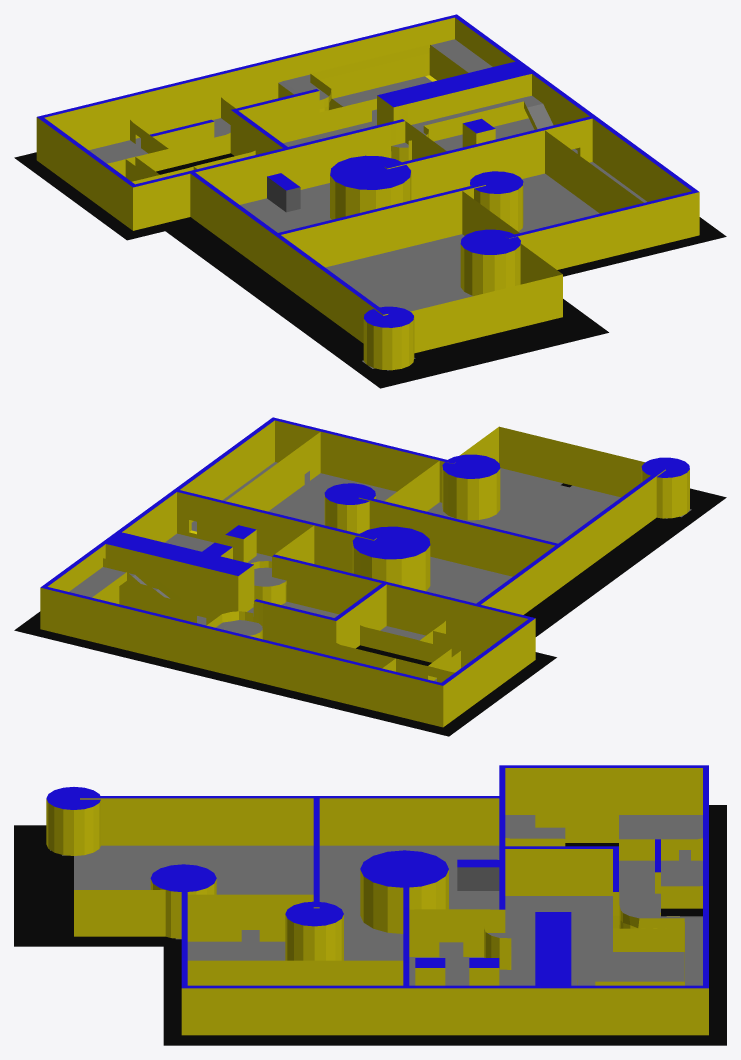
File: nivel1_pre (1).fbx
The picture shows the model from 3 angles, top to bottom: view 1: azimuth 30°, elevation 25°; view 2: azimuth 150°, elevation 25°; view 3: azimuth 270°, elevation 25°; orthographic projection. The views are drawn at different scales.
Parts seen in each view (by area): view 1: escenario; view 2: escenario; view 3: escenario.
Part boxes in pixels (x1,y1,x2,y2): escenario: (14,14,726,388); escenario: (14,417,726,736); escenario: (14,765,726,1045).
Bounding box in the file's own units: 13047 × 1867 × 16343.
